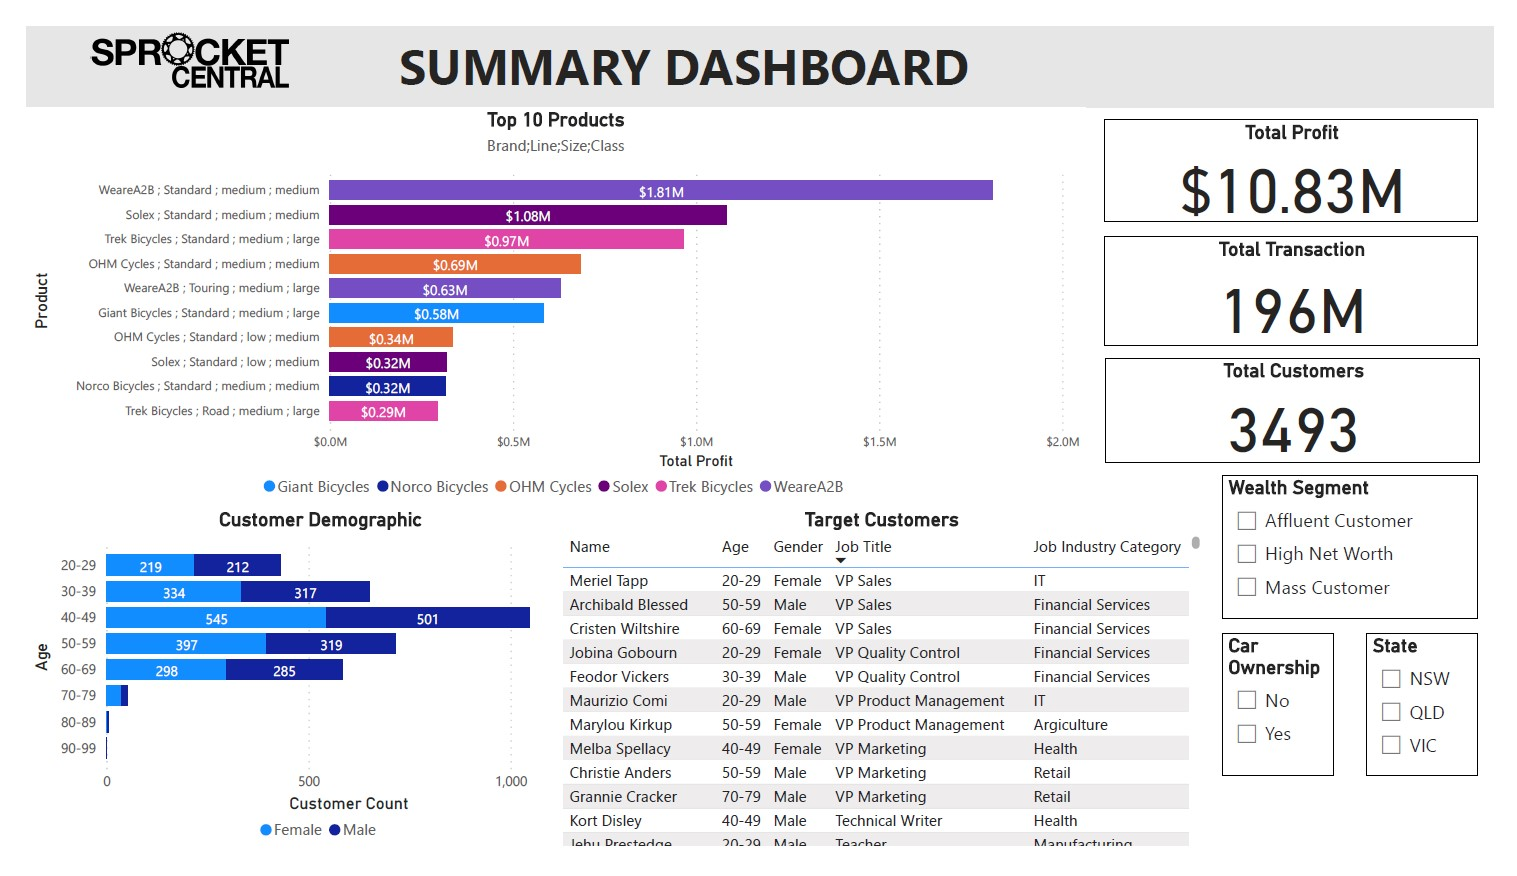

The page's visual inventory and layout, read from the dashboard file:
{"tool":"powerbi","page":{"name":"Summaey Dashboard","canvas":[1280,720],"ordinal":3},"visuals":[{"type":"shape","box":[0,0,1280,71.4],"z":0},{"type":"image","box":[0,0,288.6,71.4],"z":1000},{"type":"textbox","box":[320,0,541.4,71.4],"z":2000},{"type":"barChart","title":"Top 10 Products","fields":{"Category":["df_transactions_cleaned.product_full"],"Y":["df_transactions_cleaned.profit"],"Series":["df_transactions_cleaned.brand"]},"box":[0,71.4,924.3,348.6],"z":3000},{"type":"card","title":"Total Profit","fields":{"Values":["df_transactions_cleaned.profit"]},"box":[940,81.4,327.1,90],"z":4000},{"type":"card","title":"Total Transaction","fields":{"Values":["df_transactions_cleaned.transaction_id"]},"box":[940,182.9,327.1,95.7],"z":5000},{"type":"card","title":"Total Customers","fields":{"Values":["df_transactions_cleaned.customer_id"]},"box":[941.4,288.6,327.1,92.9],"z":6000},{"type":"barChart","title":"Customer Demographic","fields":{"Category":["df_segmented.age_class"],"Y":["df_segmented.customer_id"],"Series":["df_segmented.gender"]},"box":[0,420,512.9,300],"z":7000},{"type":"slicer","title":"State","fields":{"Values":["df_segmented.state"]},"box":[1168.6,528.6,98.6,125.7],"z":8000},{"type":"slicer","title":"Car Ownership","fields":{"Values":["df_segmented.owns_car"]},"box":[1042.9,528.6,98.6,125.7],"z":9000},{"type":"tableEx","title":"Target Customers","fields":{"Values":["df_final.Name","df_final.age_class","df_final.gender","df_final.job_title","df_final.job_industry_category"]},"box":[462.9,420,567.1,300],"z":9001},{"type":"slicer","title":"Wealth Segment","fields":{"Values":["df_segmented.wealth_segment"]},"box":[1042.9,391.4,224.3,125.7],"z":9002}]}

Visuals, with their boxes in screenshot pixels (x1, y1, x2, y2), scaled from the page's 1280x720 canvas onto the 1517x876 screenshot:
shape: left=0, top=0, right=1516, bottom=87
image: left=0, top=0, right=342, bottom=87
textbox: left=379, top=0, right=1021, bottom=87
"Top 10 Products" barChart: left=0, top=87, right=1095, bottom=511
"Total Profit" card: left=1114, top=99, right=1502, bottom=209
"Total Transaction" card: left=1114, top=223, right=1502, bottom=339
"Total Customers" card: left=1116, top=351, right=1503, bottom=464
"Customer Demographic" barChart: left=0, top=511, right=608, bottom=875
"State" slicer: left=1385, top=643, right=1502, bottom=796
"Car Ownership" slicer: left=1236, top=643, right=1353, bottom=796
"Target Customers" tableEx: left=549, top=511, right=1221, bottom=875
"Wealth Segment" slicer: left=1236, top=476, right=1502, bottom=629
